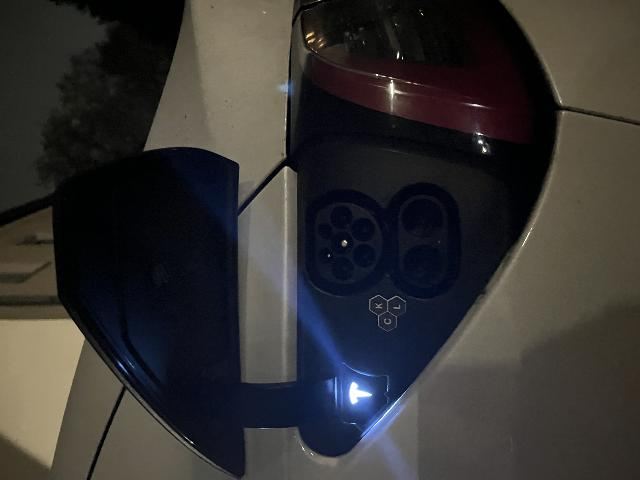inlet: (196, 314, 278, 382)
inlet-above-left: (215, 318, 232, 333)
inlet-above-right: (241, 317, 257, 332)
inlet-below-left: (212, 352, 235, 374)
inlet-below-right: (237, 351, 262, 375)
inlet-circle: (224, 331, 248, 354)
inlet-circle-left: (199, 331, 223, 354)
inlet-circle-right: (251, 331, 274, 352)
inlet-minus: (241, 402, 281, 442)
inlet-plus: (197, 403, 235, 443)
